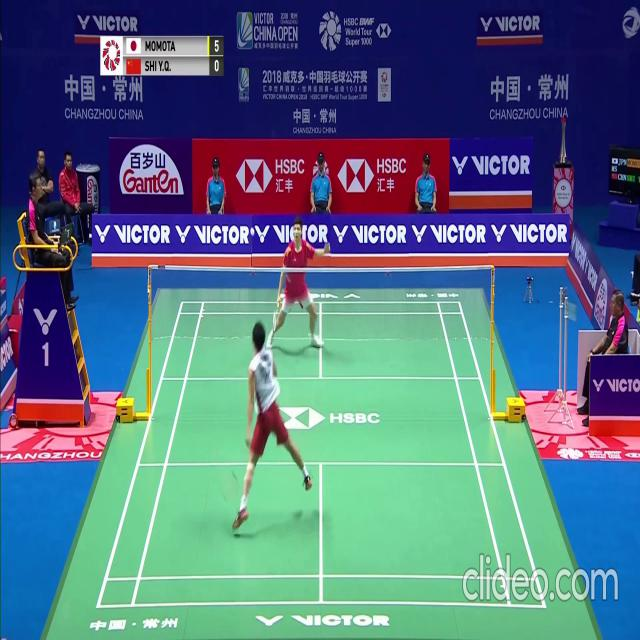Shuttlecock: (250, 227, 255, 234)
